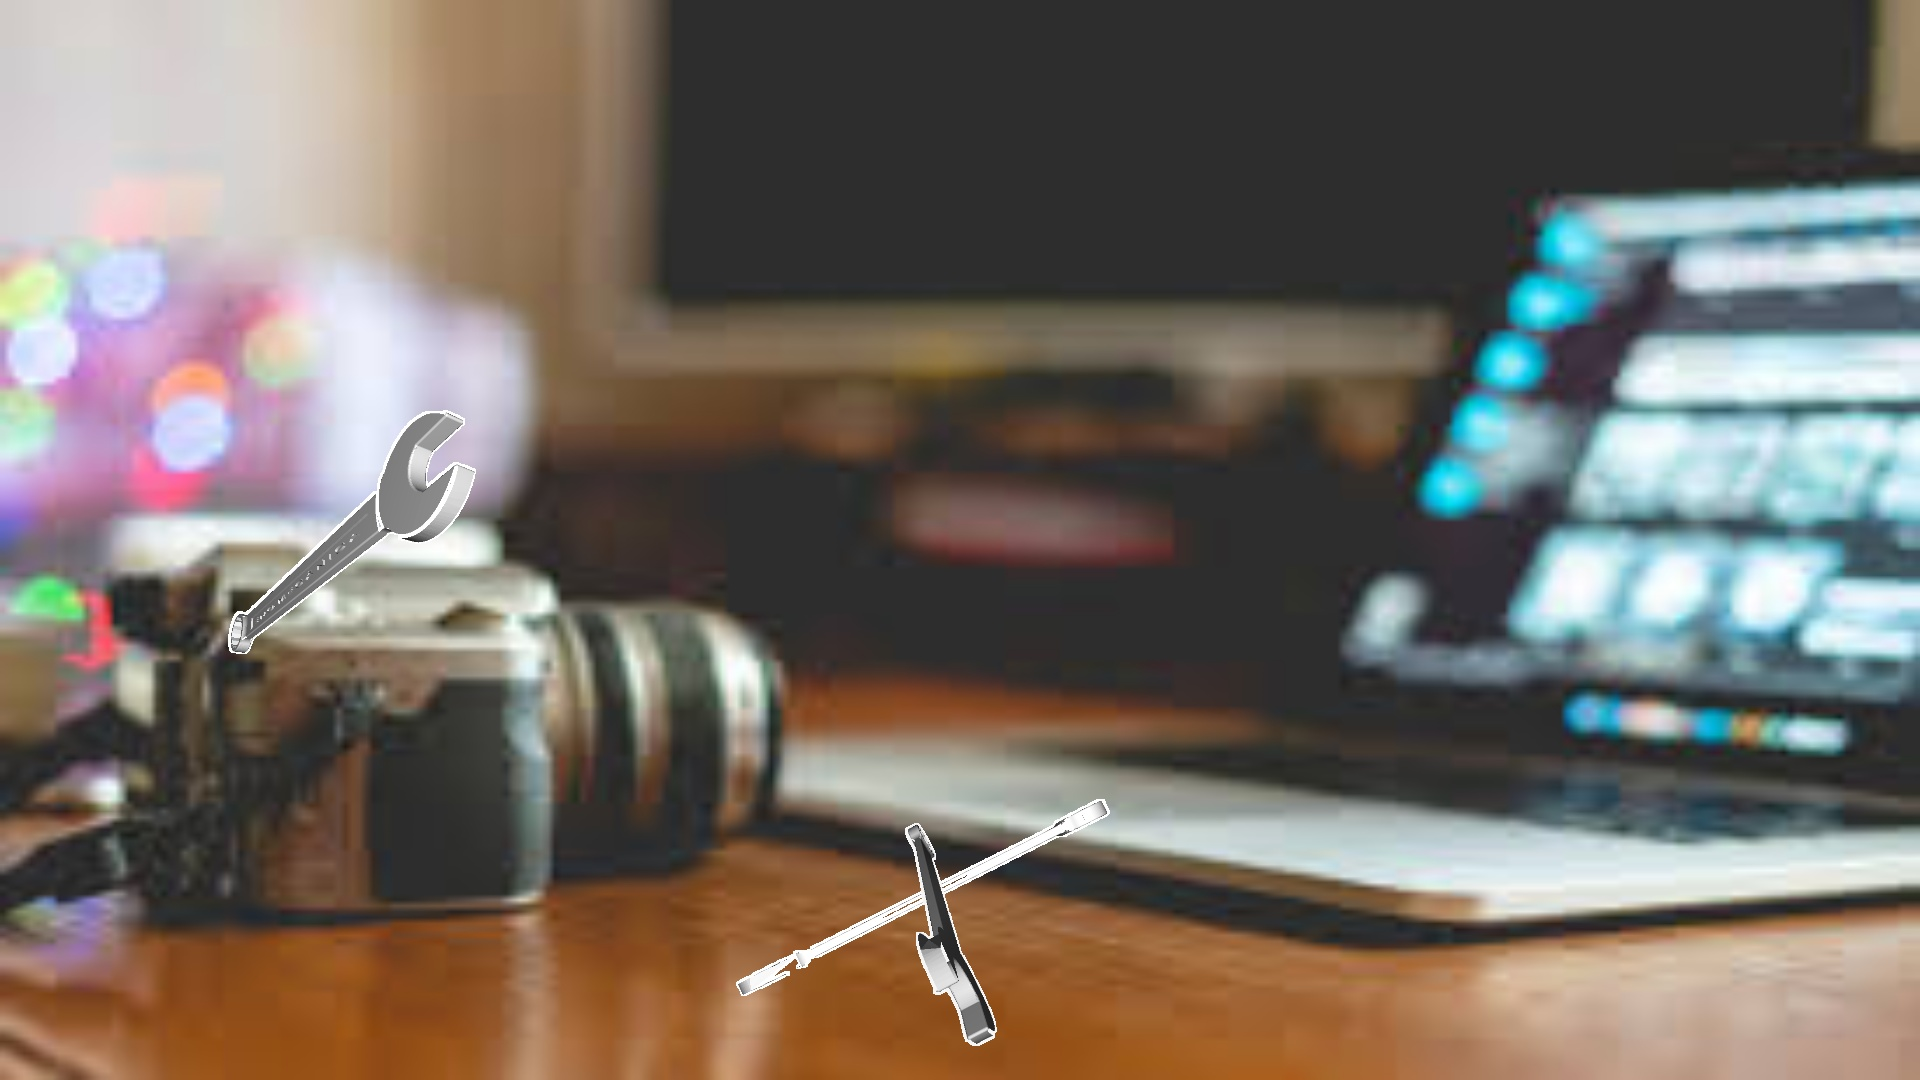Mixed Key: (736, 799, 1109, 996), (228, 410, 475, 653), (905, 823, 996, 1044)
